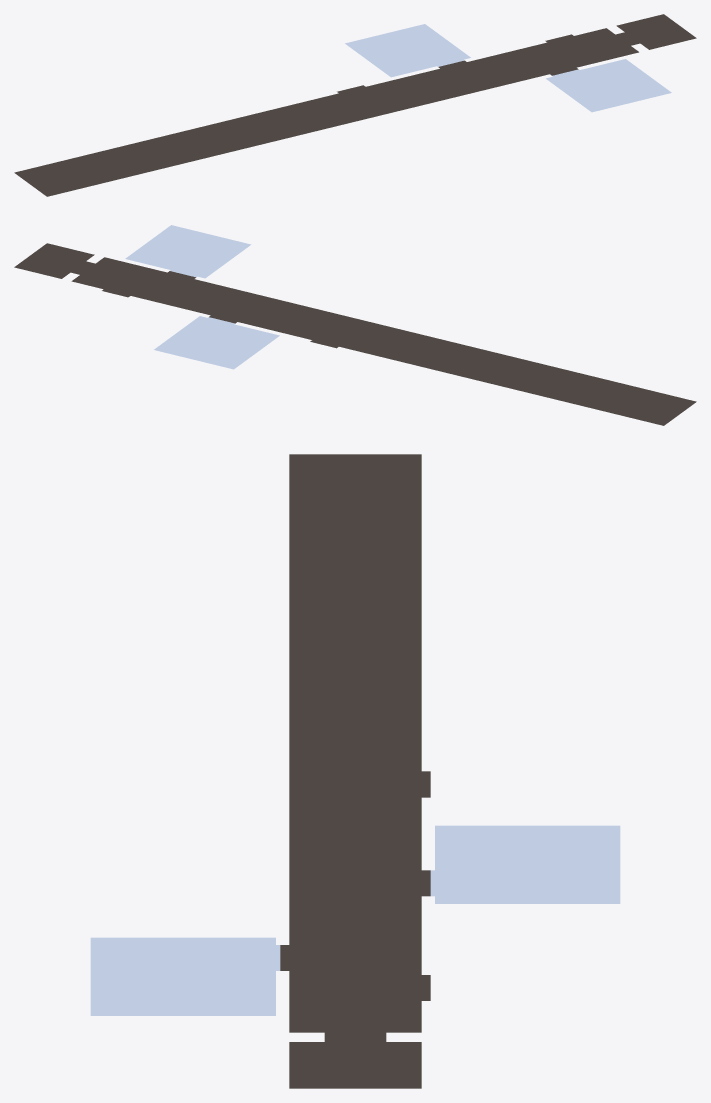
The model's file is floor-navmesh.fbx.
3 renders of one model, top to bottom at view 1: azimuth 30°, elevation 25°; view 2: azimuth 150°, elevation 25°; view 3: azimuth 270°, elevation 25°, orthographic. The views are drawn at different scales.
Visible parts, largest first — view 1: navmesh.001, navmesh.002, navmesh, navmesh.003; view 2: navmesh.001, navmesh.002, navmesh, navmesh.003; view 3: navmesh.001, navmesh.002, navmesh, navmesh.003.
Boxes of the visible parts, x1,y1,x2,y2 form: navmesh.001: (301,28,638,126); navmesh.002: (14,102,333,196); navmesh: (345,24,671,112); navmesh.003: (616,14,696,49); navmesh.001: (71,257,409,355); navmesh.002: (377,332,696,425); navmesh: (125,225,279,369); navmesh.003: (14,243,94,278); navmesh.001: (280,734,430,1036); navmesh.002: (289,454,421,734); navmesh: (90,825,620,1015); navmesh.003: (289,1036,421,1088).
Size of the model in its own units: 34 by 12 by 0.
Materials: 1 (1 with a texture image).
